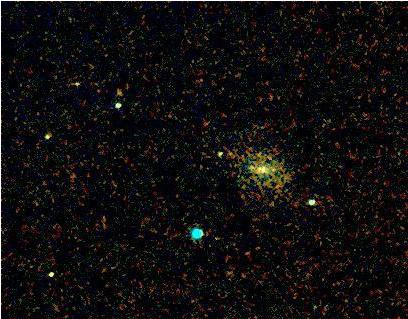star: (105, 77, 135, 107)
